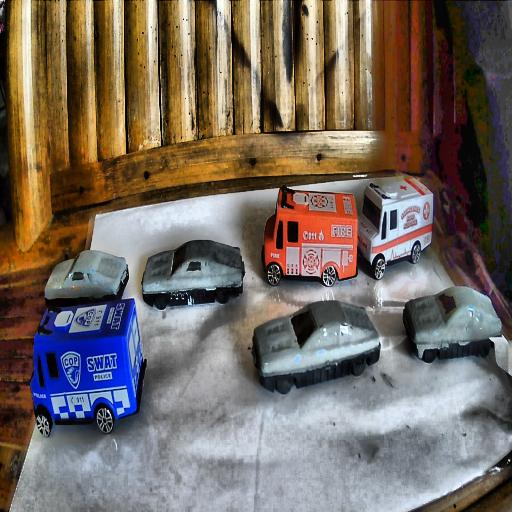ambulance: (354, 173, 435, 280)
fire_truck: (261, 184, 357, 287)
normal_car: (251, 300, 381, 396), (403, 286, 503, 362), (141, 239, 245, 310), (44, 249, 129, 310)
police car: (30, 297, 146, 438)
